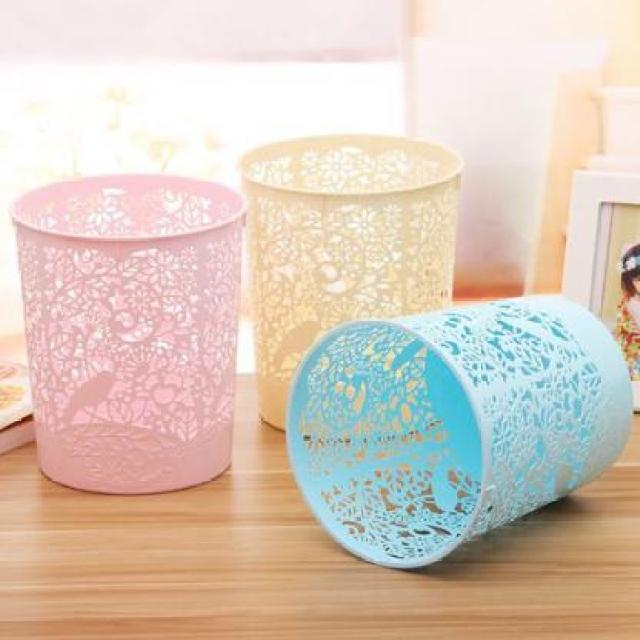dustbin: (281, 291, 637, 575), (8, 169, 254, 501), (234, 130, 467, 444)
